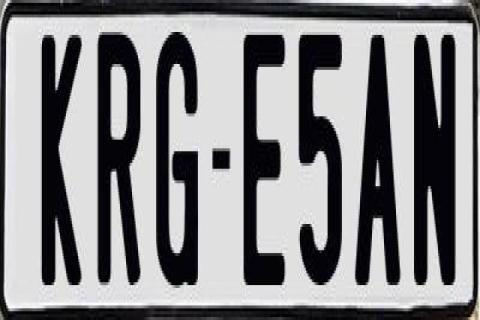0: (298, 29, 348, 282)
A: (356, 32, 402, 294)
E: (242, 26, 288, 291)
G: (152, 29, 198, 297)
K: (42, 29, 82, 291)
N: (410, 29, 458, 279)
R: (96, 32, 139, 300)
